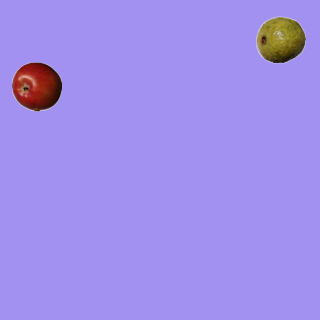Apple Braeburn: (11, 61, 61, 111)
Guava: (255, 14, 305, 64)
